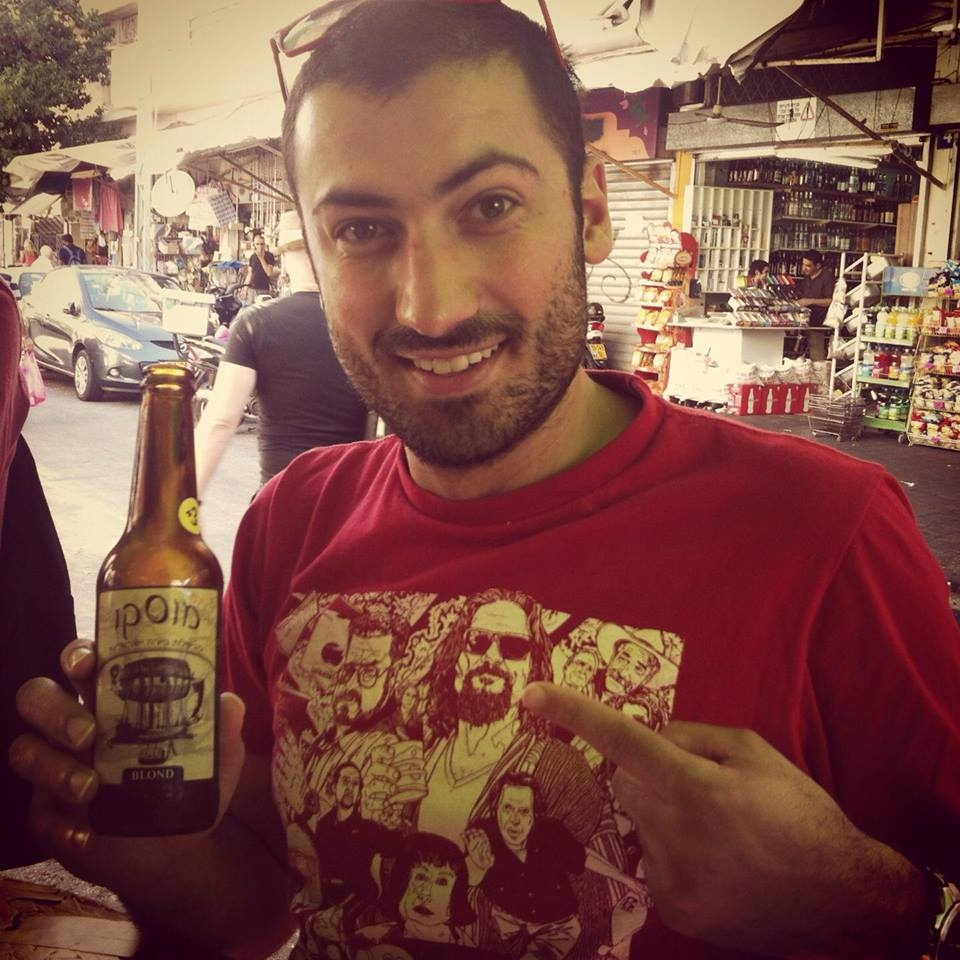beerBottle: (83, 350, 221, 830)
